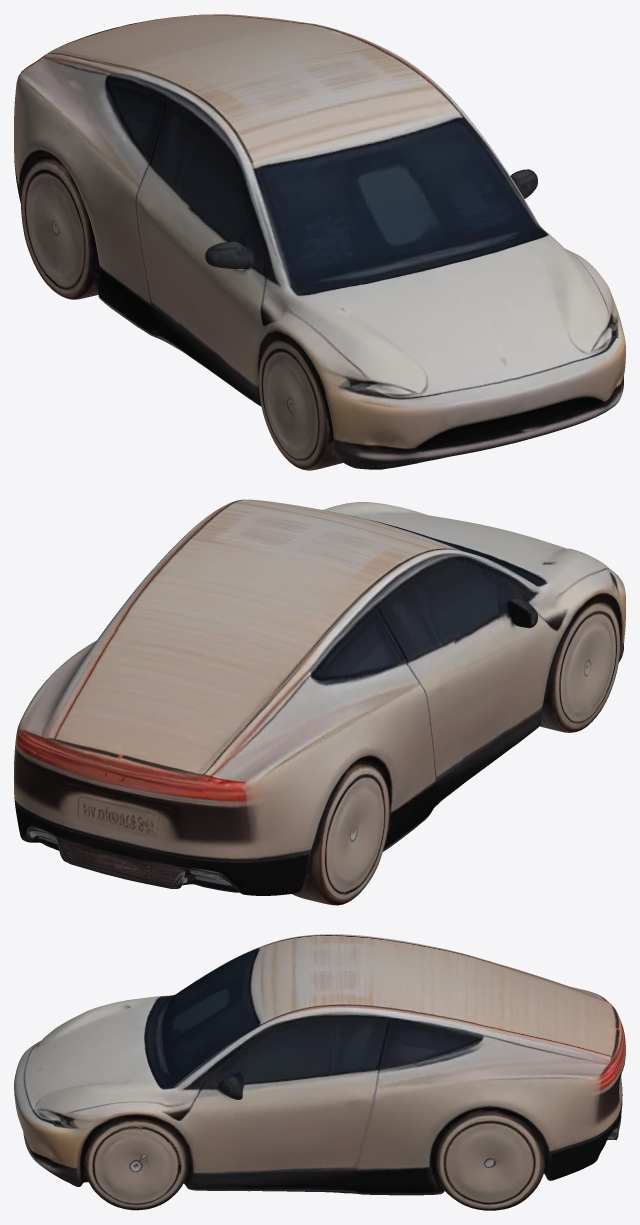
The model's file is tesla_cybercab_3d_model.glb.
The picture shows the model from 3 angles, top to bottom: view 1: azimuth 30°, elevation 25°; view 2: azimuth 150°, elevation 25°; view 3: azimuth 270°, elevation 25°; orthographic projection. The views are drawn at different scales.
Parts seen in each view (by area): view 1: tripo_node_369f0999-50fc-4368-901b-ed21f7275965_tripo_mat_36; view 2: tripo_node_369f0999-50fc-4368-901b-ed21f7275965_tripo_mat_36; view 3: tripo_node_369f0999-50fc-4368-901b-ed21f7275965_tripo_mat_36.
Part boxes in pixels (x1,y1,x2,y2): tripo_node_369f0999-50fc-4368-901b-ed21f7275965_tripo_mat_36: [14, 14, 625, 470]; tripo_node_369f0999-50fc-4368-901b-ed21f7275965_tripo_mat_36: [14, 499, 625, 905]; tripo_node_369f0999-50fc-4368-901b-ed21f7275965_tripo_mat_36: [14, 934, 625, 1210].
Size of the model in its own units: 0.4448 by 0.3257 by 0.9473.
1 material, 1 textured.
